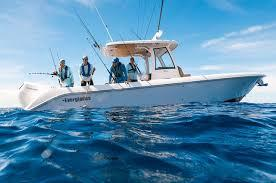fishing boat: (15, 26, 271, 113)
